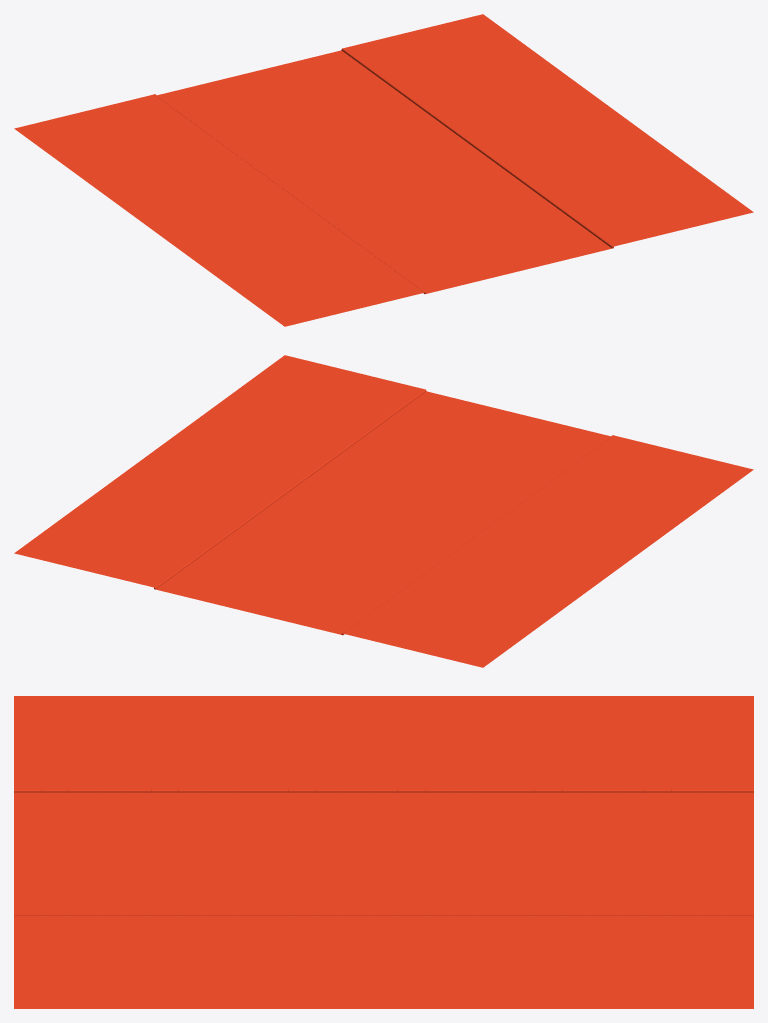
The model's file is SM_Mainroad_Crosswalk_City.fbx.
The picture shows the model from 3 angles, top to bottom: view 1: azimuth 30°, elevation 25°; view 2: azimuth 150°, elevation 25°; view 3: azimuth 270°, elevation 25°; orthographic projection. The views are drawn at different scales.
Parts seen in each view (by area): view 1: SM_Mainroad_Crosswalk_City; view 2: SM_Mainroad_Crosswalk_City; view 3: SM_Mainroad_Crosswalk_City.
Part boxes in pixels (x1,y1,x2,y2): SM_Mainroad_Crosswalk_City: [14, 14, 753, 326]; SM_Mainroad_Crosswalk_City: [14, 355, 753, 667]; SM_Mainroad_Crosswalk_City: [14, 696, 753, 1008].
Bounding box in the file's own units: 30 × 0.1084 × 30.
